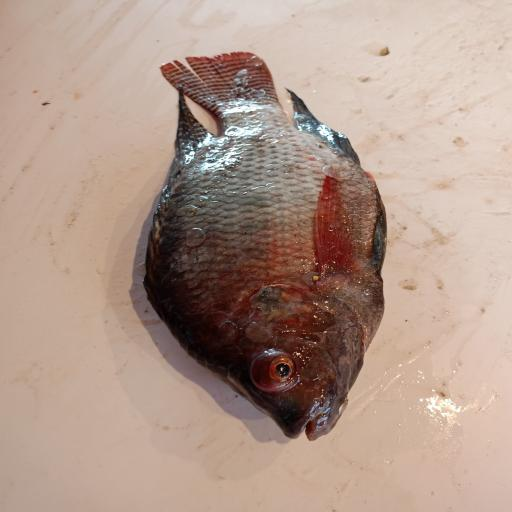Tilapia: (143, 52, 387, 441)
